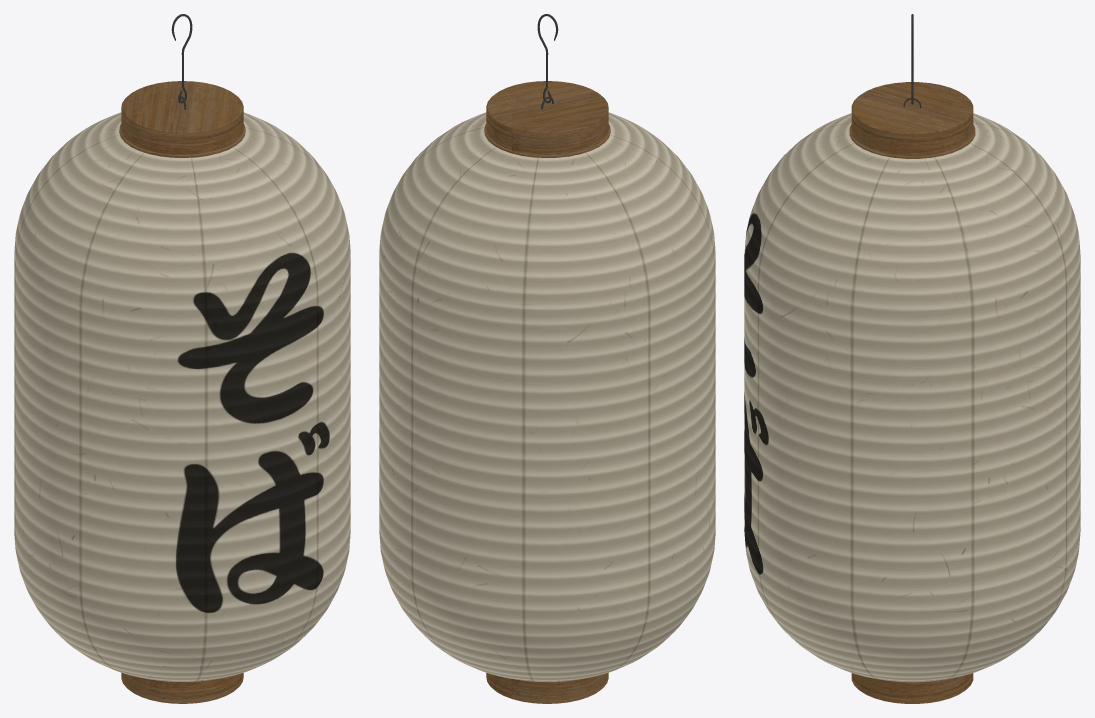
The model's file is lampara.glb.
3 views of the same model, side by side, from view 1: azimuth 30°, elevation 25°; view 2: azimuth 150°, elevation 25°; view 3: azimuth 270°, elevation 25° (orthographic).
Bounding box in the file's own units: 0.3637 × 0.7924 × 0.3637.
1 material, 1 textured.
